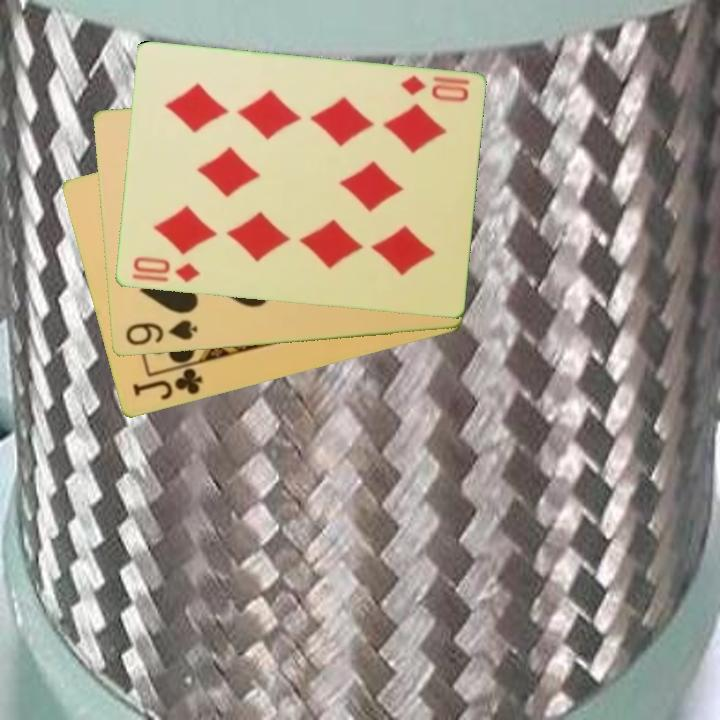10d: (397, 72, 471, 106), (128, 253, 202, 286)
9s: (122, 317, 200, 349)
Jc: (128, 364, 205, 404)
